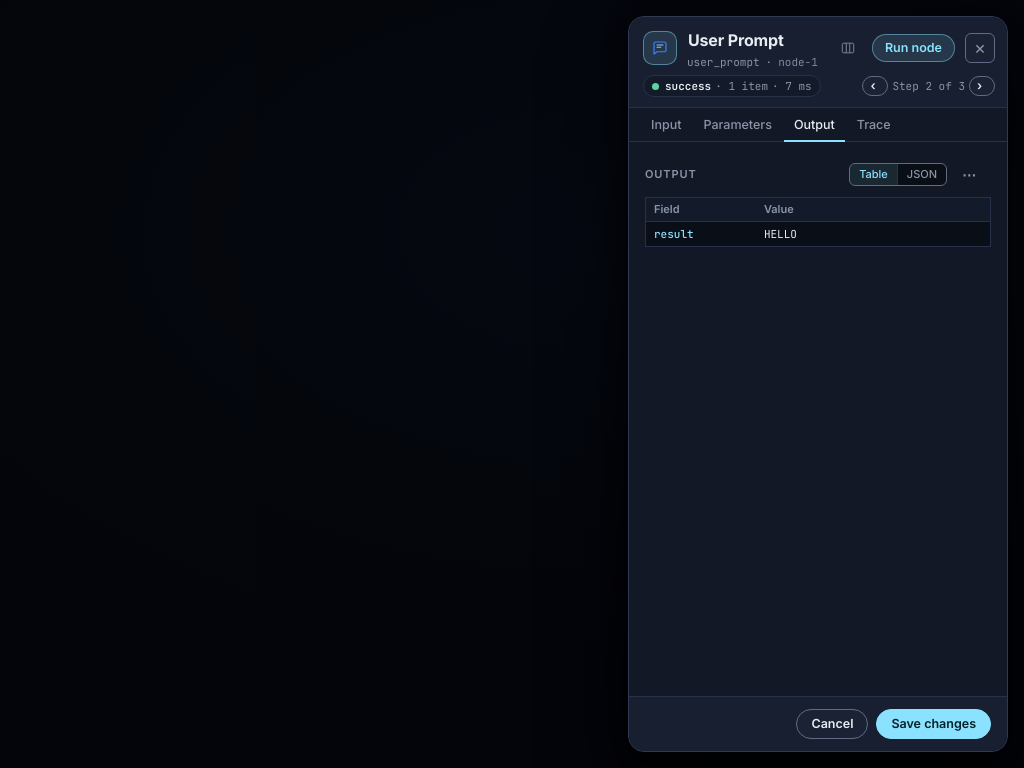
NodeInspector run data › opens on the run's output and shows the input the node received, not the chat prompt
Expected: the element with test id "run-data-status" reads "success · 1 item · 7 ms", [643, 75, 821, 97]
Expected: the text "HELLO" is shown, [756, 222, 990, 247]
Click the tab "Input" at (666, 125), box [641, 108, 691, 142]
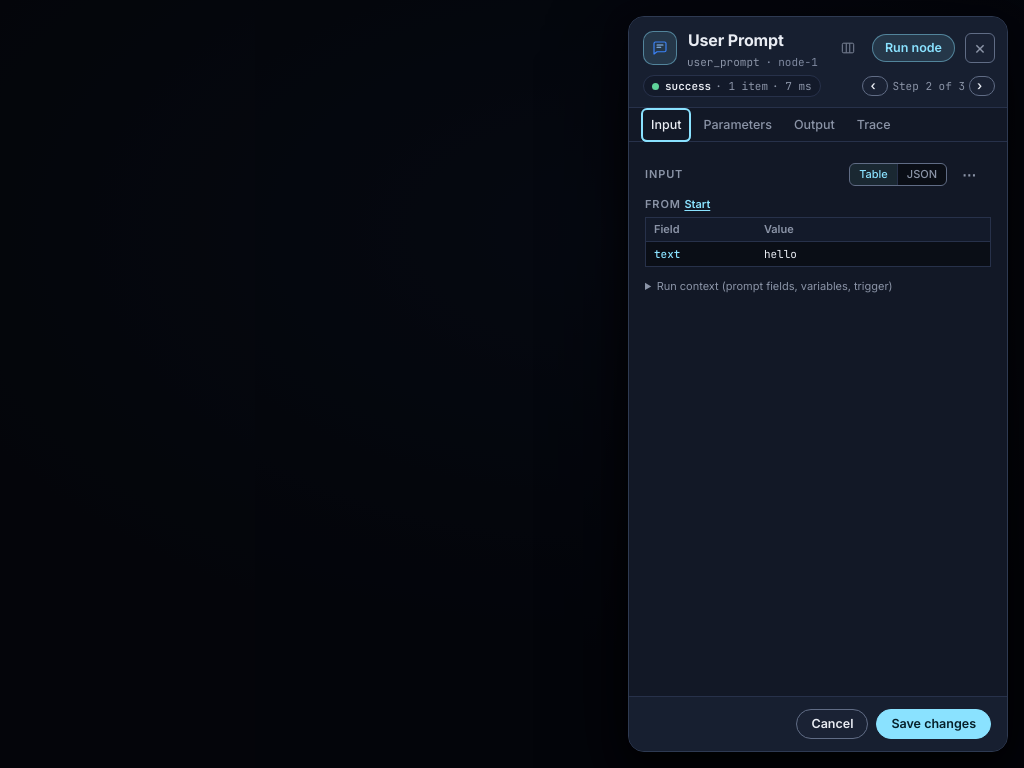
Now the element "From Start" shows "hello", box [764, 248, 797, 262]
